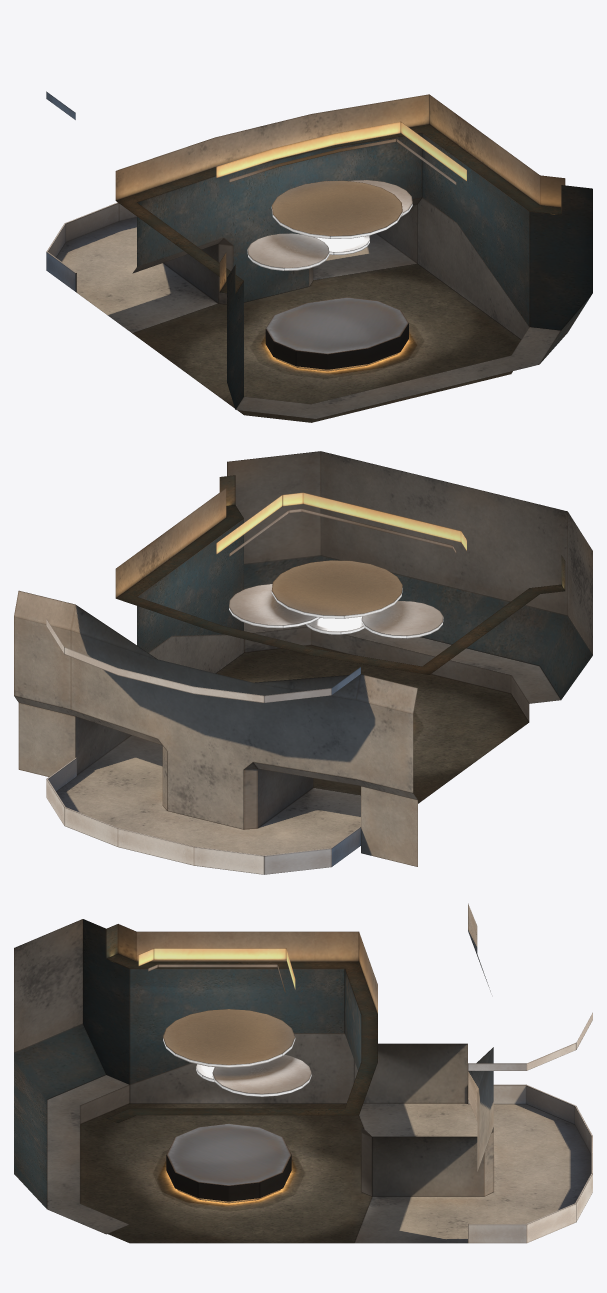
The model's file is MeetingSpace1_mesh.glb.
3 views of the same model, one above another, from view 1: azimuth 30°, elevation 25°; view 2: azimuth 150°, elevation 25°; view 3: azimuth 270°, elevation 25° (orthographic).
Parts seen in each view (by area): view 1: MeetingSpace1_mesh; view 2: MeetingSpace1_mesh; view 3: MeetingSpace1_mesh.
Boxes of the visible parts, x1,y1,x2,y2 form: MeetingSpace1_mesh: (46,91,592,422); MeetingSpace1_mesh: (14,451,592,874); MeetingSpace1_mesh: (14,903,592,1243).
Size of the model in its own units: 21 by 9.37 by 26.25.
Materials: 1 (1 with a texture image).
